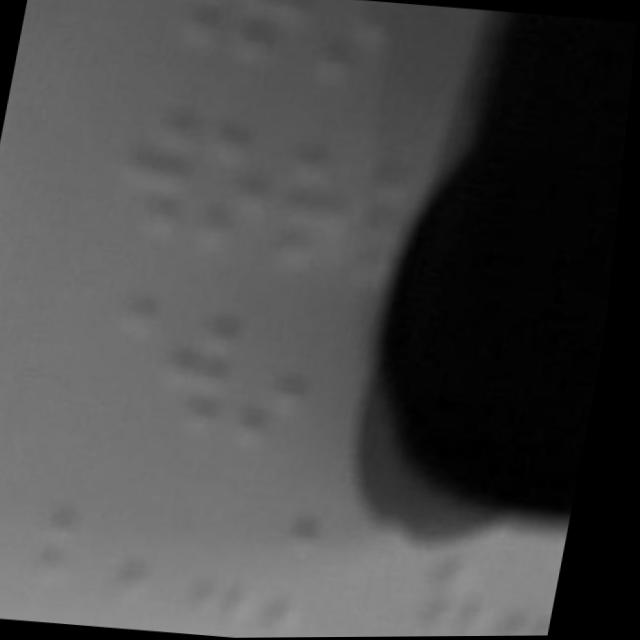braiile: (119, 472, 209, 611), (239, 326, 329, 462), (166, 308, 253, 441), (42, 465, 129, 598), (276, 518, 369, 638), (199, 507, 286, 631)
